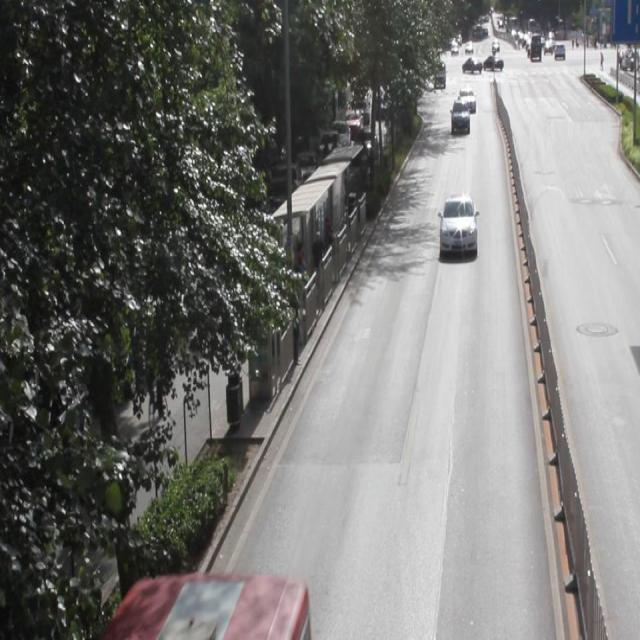car: (438, 192, 474, 256), (449, 98, 469, 136)
van: (111, 569, 310, 640)
